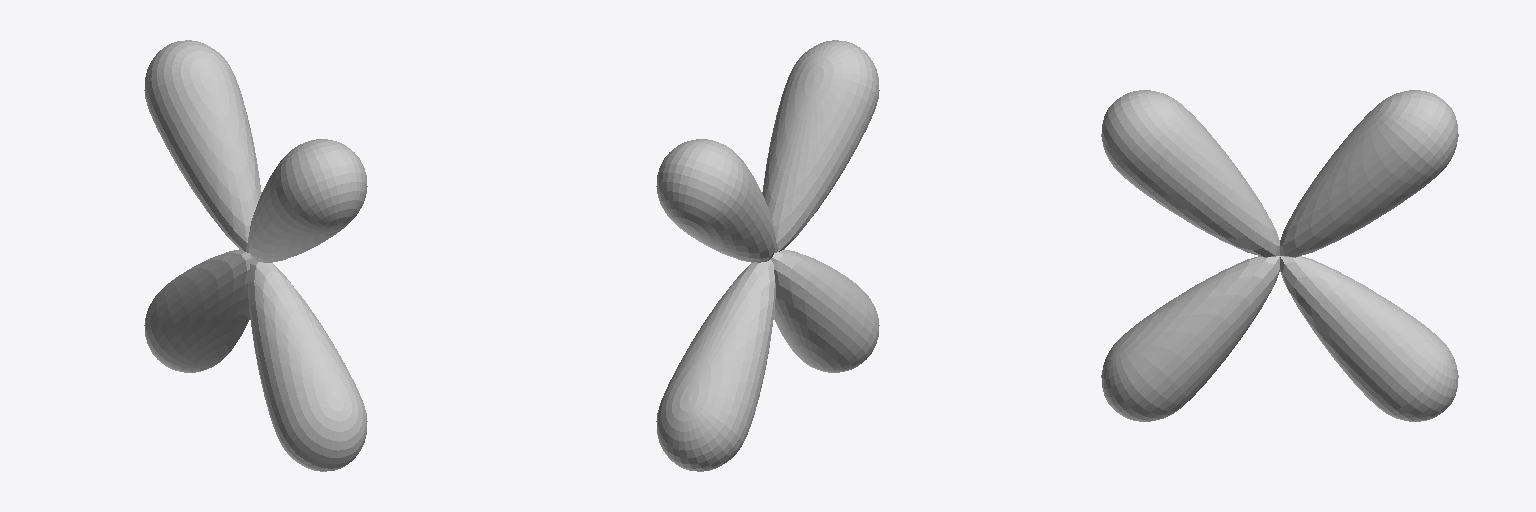
3 renders of one model, left to right at view 1: azimuth 30°, elevation 25°; view 2: azimuth 150°, elevation 25°; view 3: azimuth 270°, elevation 25°, orthographic.
Parts seen in each view (by area): view 1: dz.003, dx.003; view 2: dx.003, dz.003; view 3: dz.003, dx.003.
Boxes of the visible parts, <box> form: dz.003: <box>144,40,367,471</box>; dx.003: <box>144,139,367,372</box>; dx.003: <box>656,40,879,471</box>; dz.003: <box>656,139,879,372</box>; dz.003: <box>1101,90,1458,421</box>; dx.003: <box>1101,90,1458,421</box>.
Bounding box in the file's own units: 22.17 × 85.05 × 85.05.